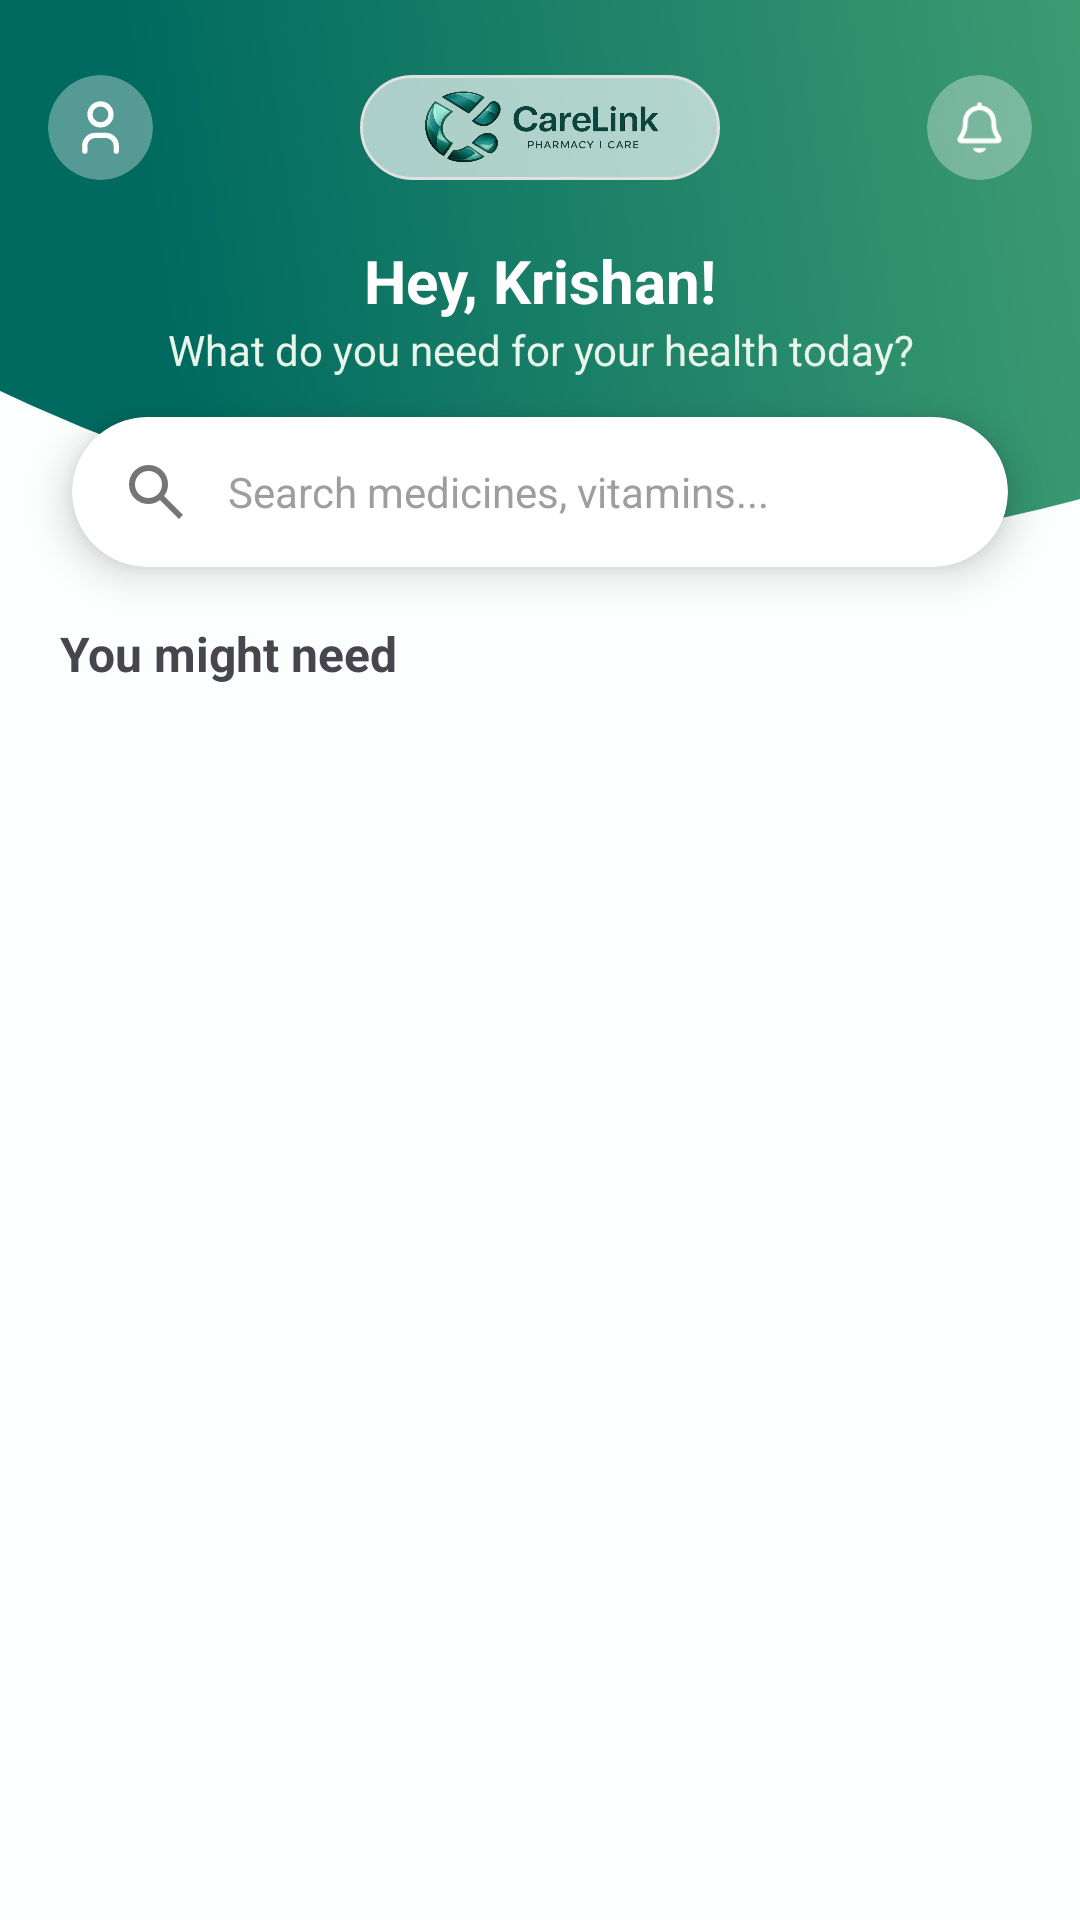

Icon bounding boxes for this 1080x1920 phone screenshot, format (x1, y1, x2, y2):
notification: (927, 75, 1032, 180)
user: (48, 75, 153, 180)
